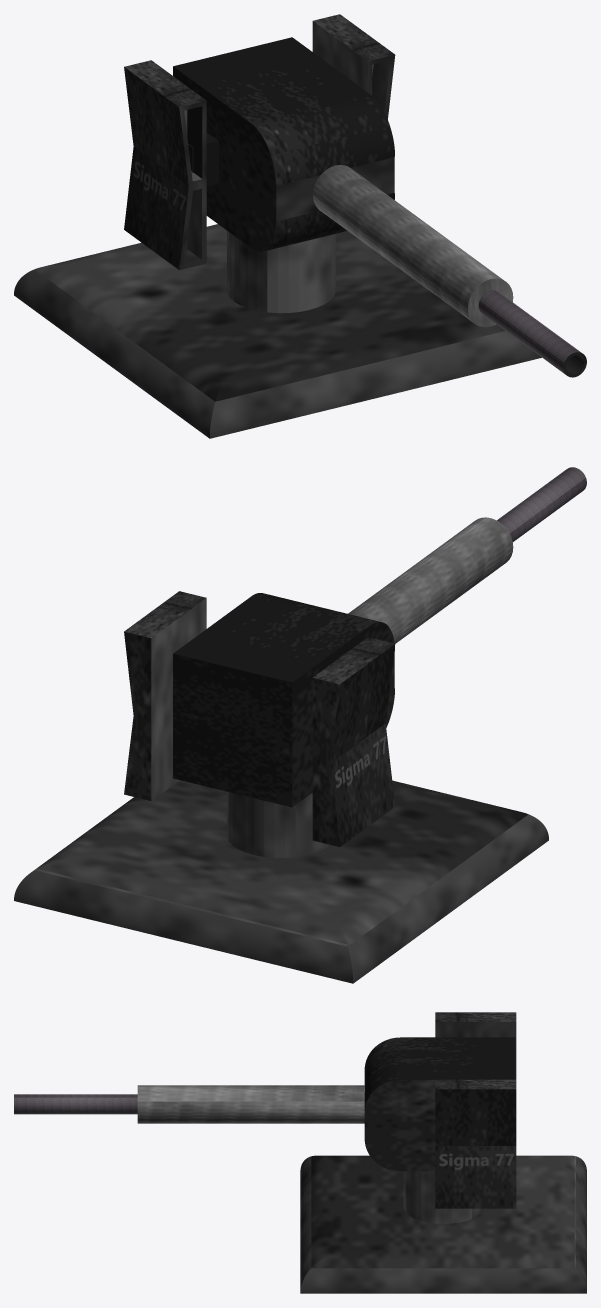
The model's file is BasicTurret.fbx.
The picture shows the model from 3 angles, top to bottom: view 1: azimuth 30°, elevation 25°; view 2: azimuth 150°, elevation 25°; view 3: azimuth 270°, elevation 25°; orthographic projection. The views are drawn at different scales.
Visible parts, largest first — view 1: ploca, glava, ukrasi, 1cijev veca, drzac, 2manja cijev, drzac2; view 2: ploca, glava, ukrasi, 1cijev veca, drzac, 2manja cijev; view 3: ploca, ukrasi, glava, 1cijev veca, 2manja cijev, drzac.
Part boxes in pixels (x1,y1,x2,y2): ploca: (14,224,541,438); glava: (173,37,394,251); ukrasi: (124,14,395,270); 1cijev veca: (313,165,513,327); drzac: (227,231,335,313); 2manja cijev: (478,290,586,377); drzac2: (188,132,218,185); ploca: (14,780,548,983); glava: (173,593,394,807); ukrasi: (124,591,395,846); 1cijev veca: (348,517,513,643); drzac: (227,791,329,857); 2manja cijev: (497,467,586,541); ploca: (300,1155,586,1293); ukrasi: (435,1012,516,1208); glava: (364,1037,515,1171); 1cijev veca: (137,1085,364,1123); 2manja cijev: (14,1094,137,1114); drzac: (403,1171,482,1223).
Size of the model in its own units: 159 by 112 by 318.
